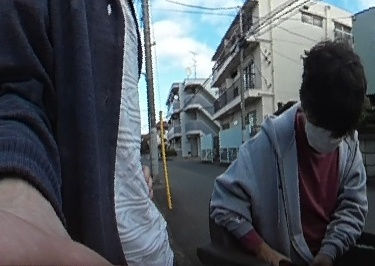person: (213, 38, 366, 266)
